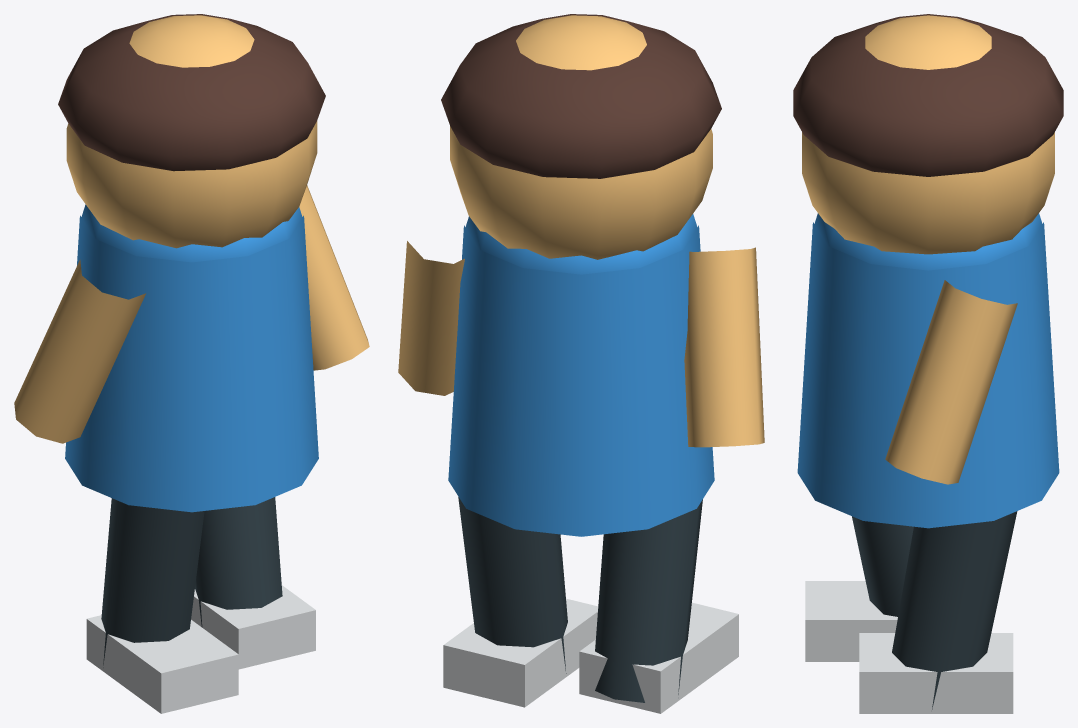
Rendered from character.glb.
The picture shows the model from 3 angles, left to right: view 1: azimuth 30°, elevation 25°; view 2: azimuth 150°, elevation 25°; view 3: azimuth 270°, elevation 25°; orthographic projection. The views are drawn at different scales.
Visible parts, largest first — view 1: runner/character; view 2: runner/character; view 3: runner/character.
Part boxes in pixels (<box>): runner/character: <box>14,14,369,713</box>; runner/character: <box>398,14,764,713</box>; runner/character: <box>793,14,1063,713</box>.
Size of the model in its own units: 0.5759 by 1 by 0.3781.
